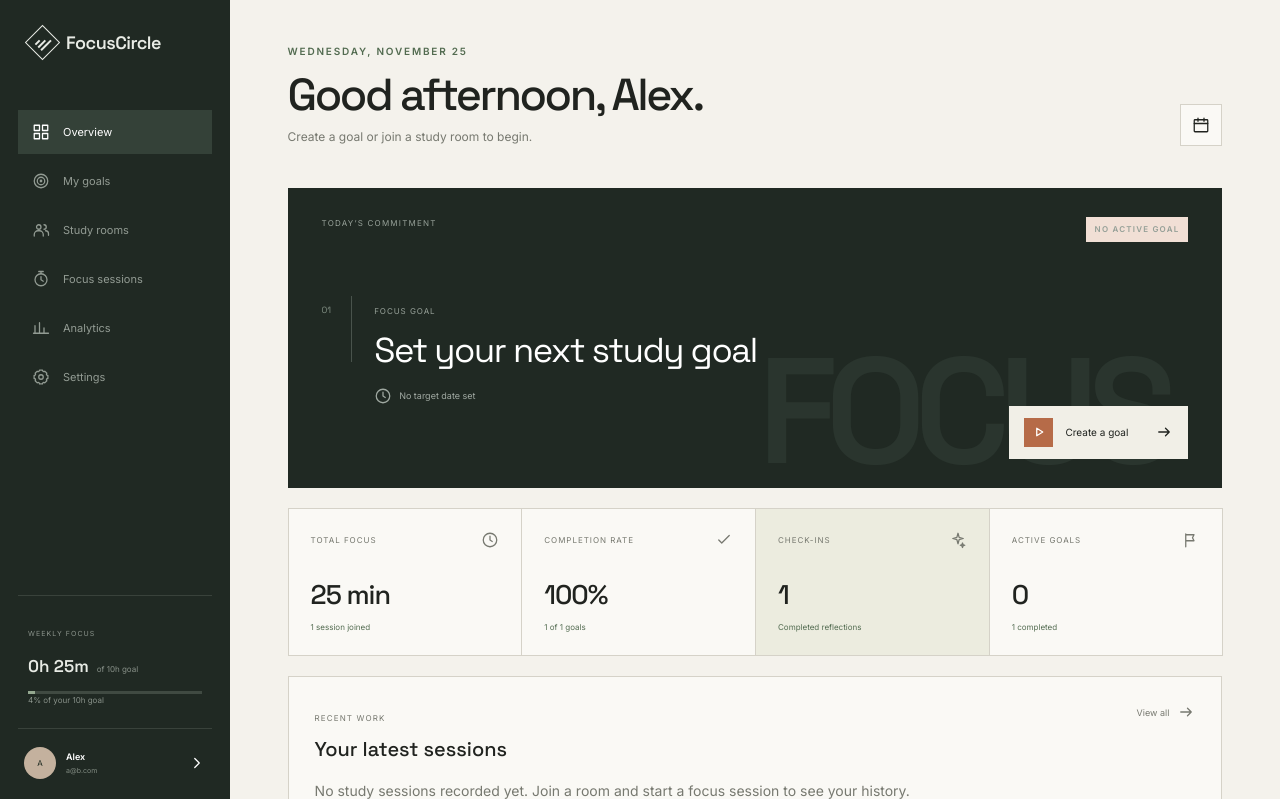
Test: FocusCircle Frontend › runs study room -> focus timer -> check-in -> analytics flow
The image size is (1280, 799).
Expected: the heading "Good afternoon, Alex." is shown, [288,73,703,118]
Click the button "Study rooms" at (115, 230), box [18,208,212,252]
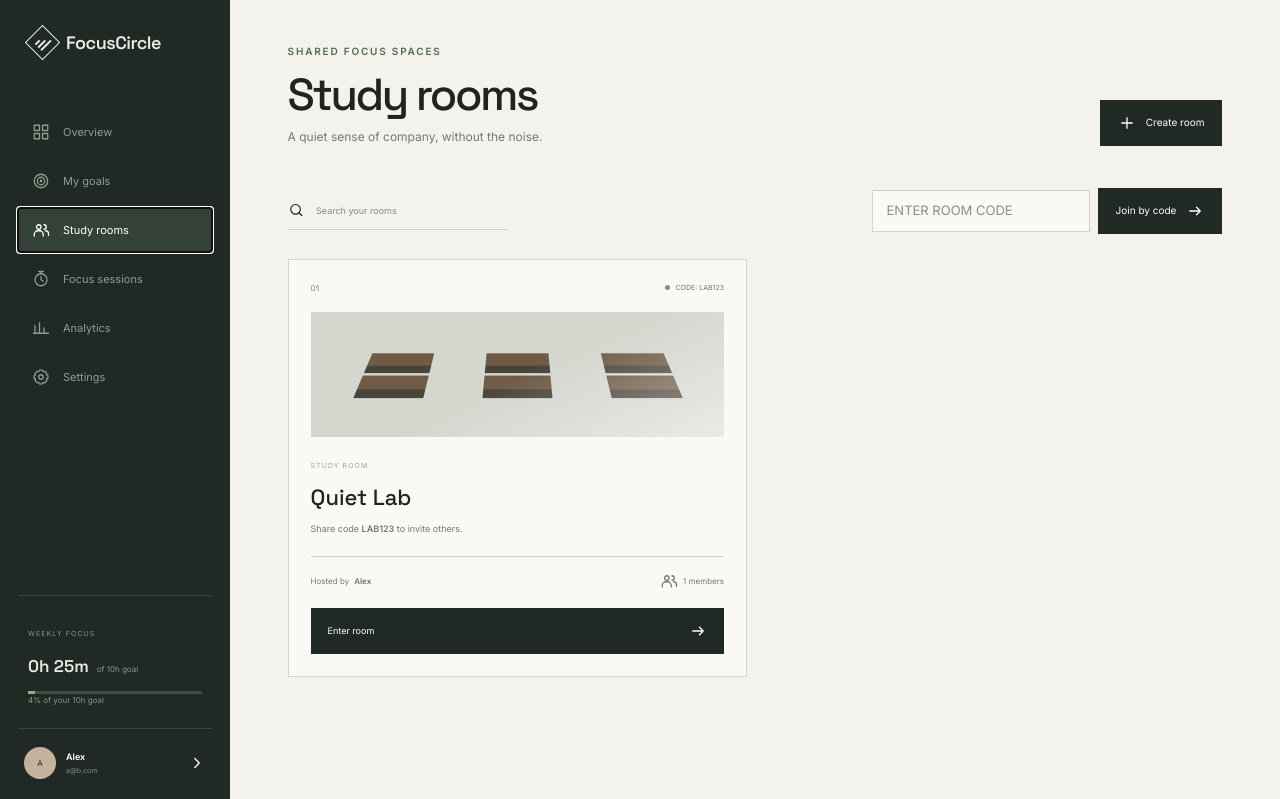
Result: the heading "Quiet Lab" is shown at [311,483,412,511]
Click the button "Enter room" at (351, 631), box [311,608,724,654]
(page scrolled)
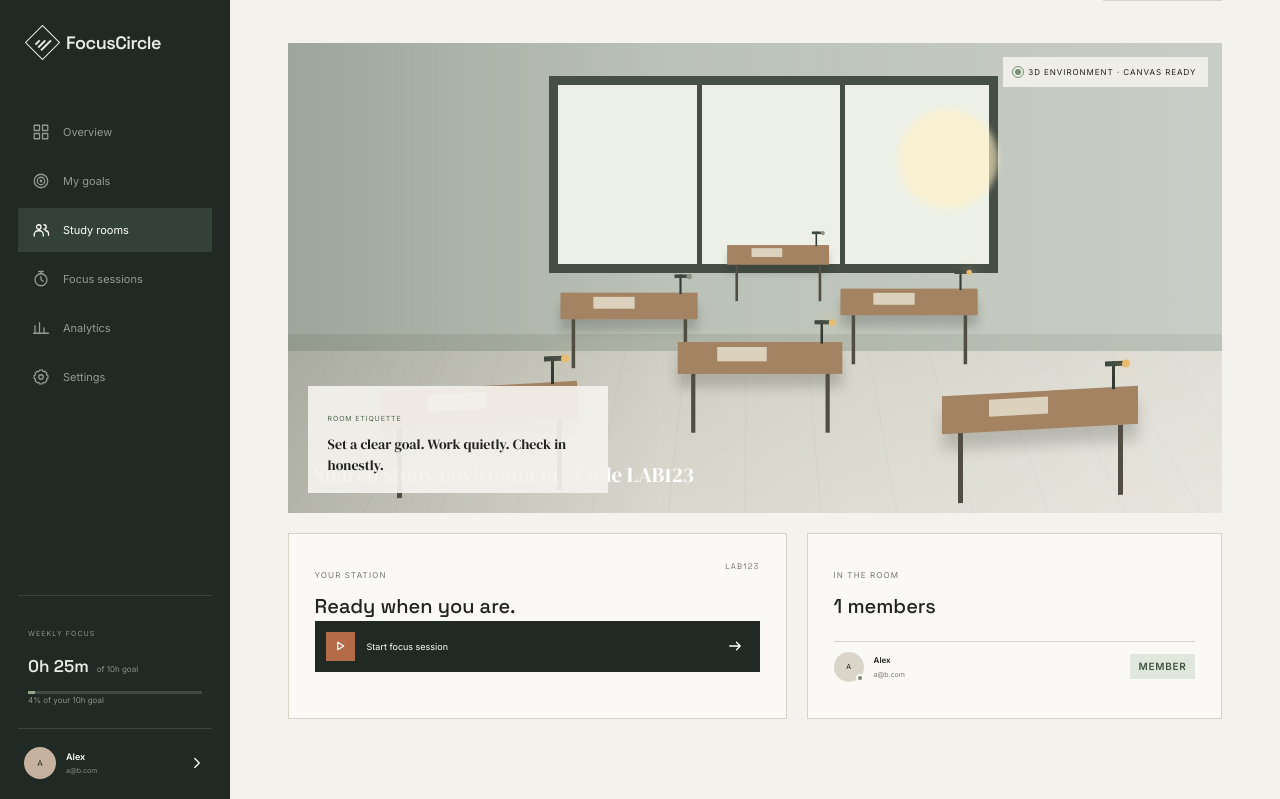
Result: the button "Start focus session" is shown
Click the button "Start focus session" at (407, 646), box [315,621,760,672]
(page scrolled)
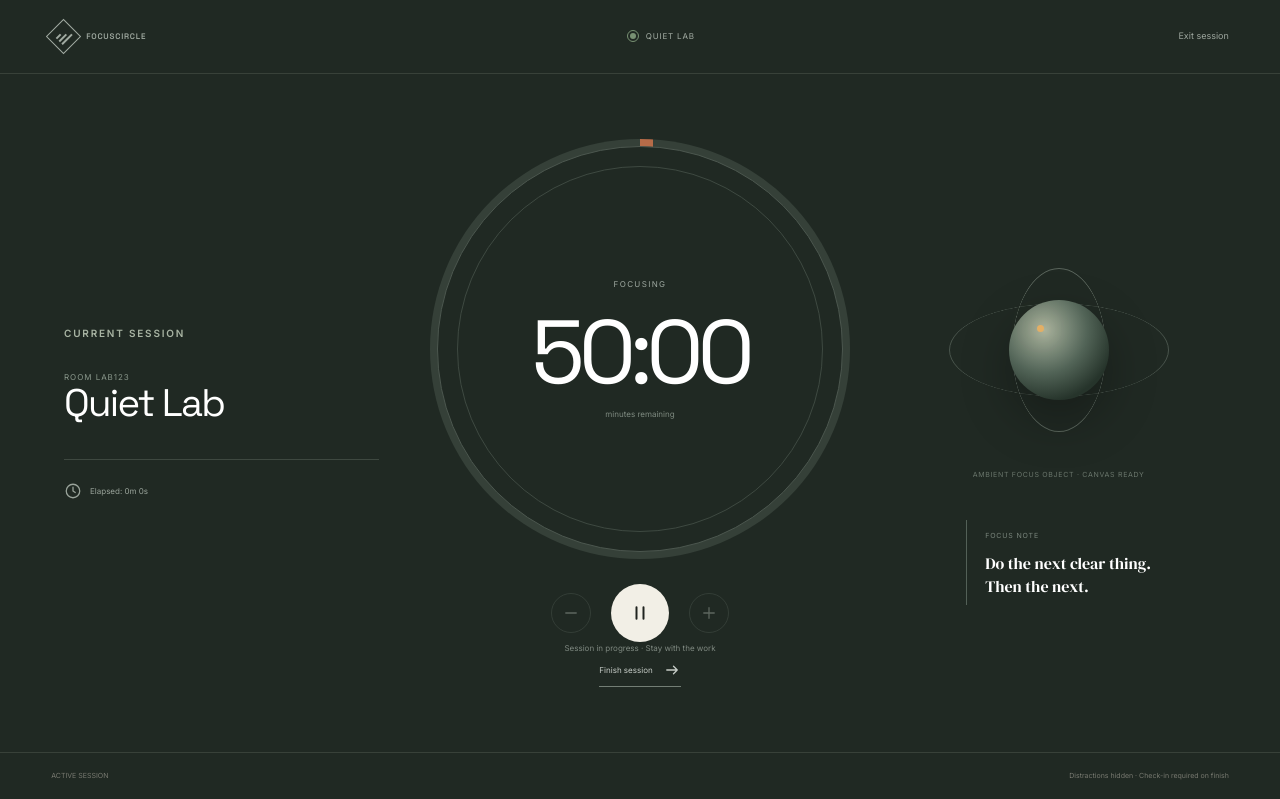
Result: the text "Session in progress · Stay with the work" is shown at [564,642,716,654]
Click the button "Finish session" at (640, 670), box [599,654,681,687]
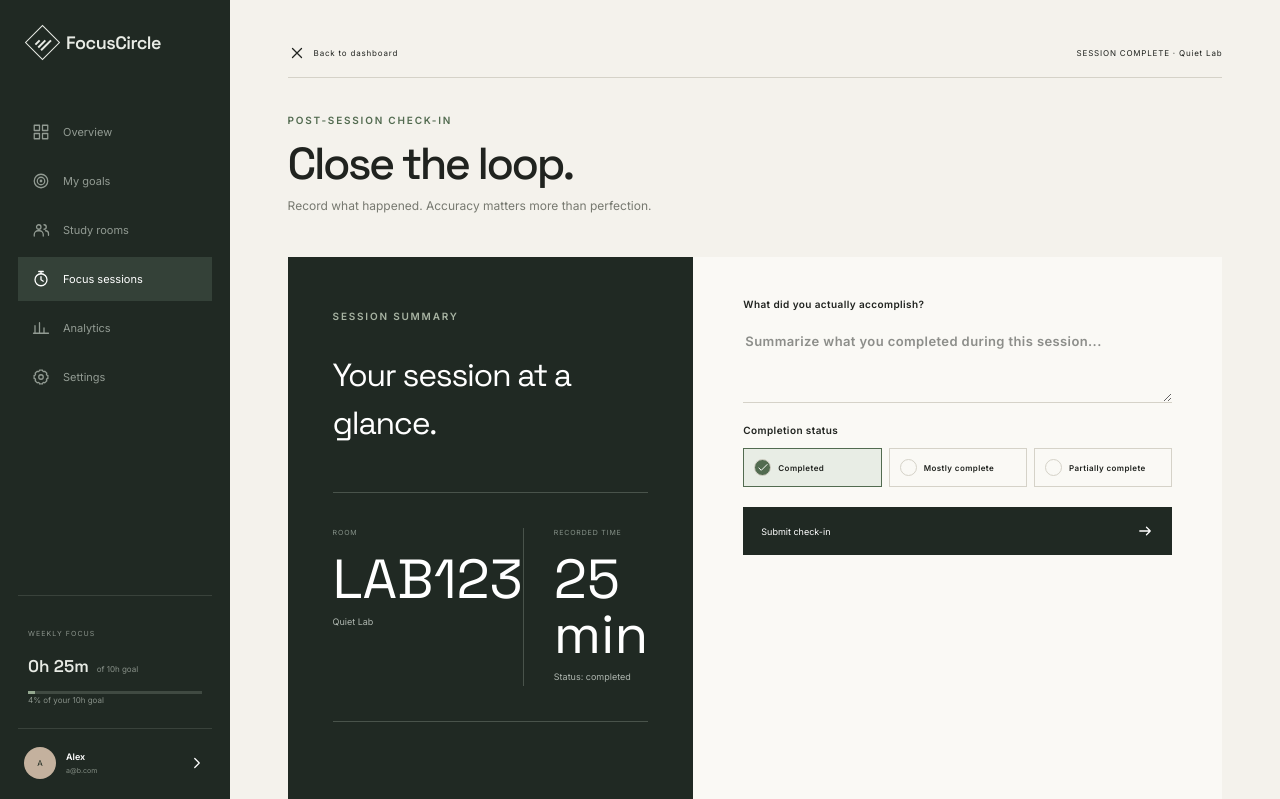
Result: the heading "Close the loop." is shown at [288,135,573,192]
Type "Finished 3 chapters" into the text box with placeholder "Summarize what you completed during this session..." at (958, 362), box [743,320,1172,403]
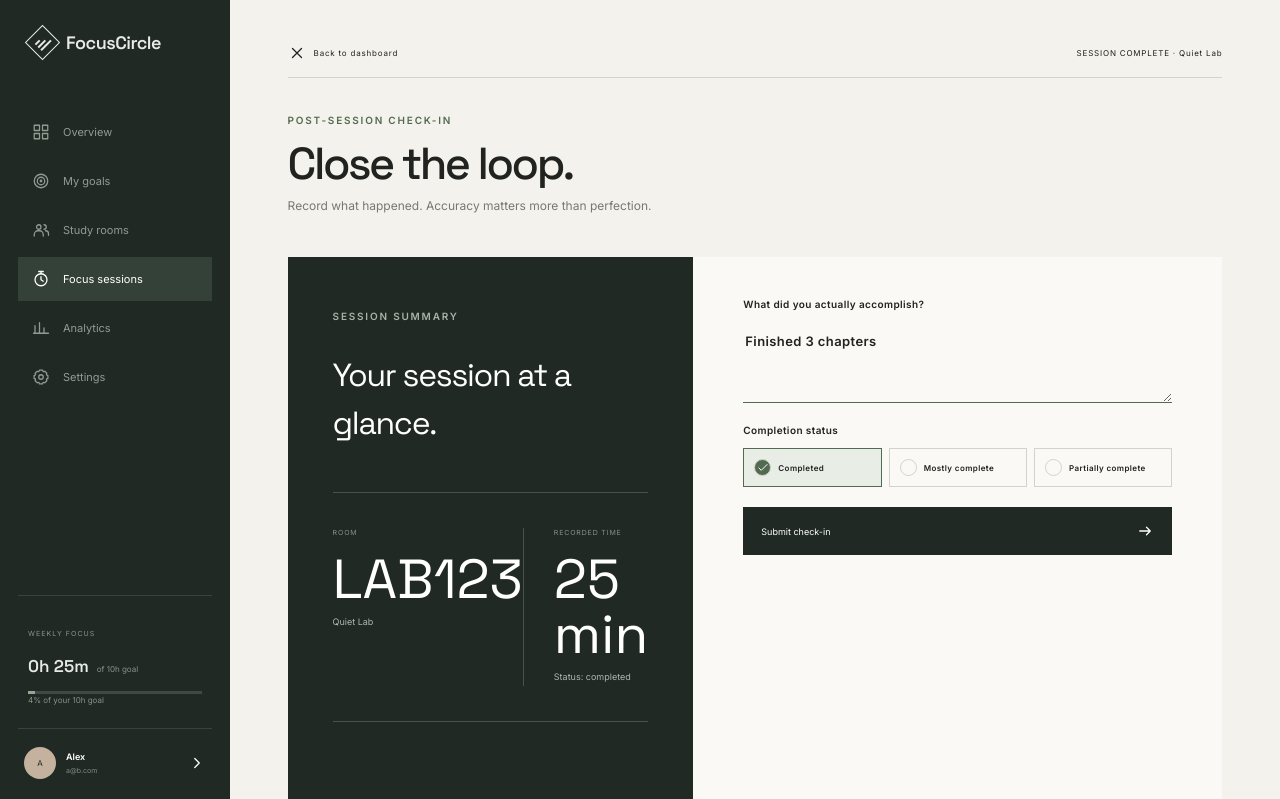
Click the button "Submit check-in" at (796, 531), box [743,507,1172,555]
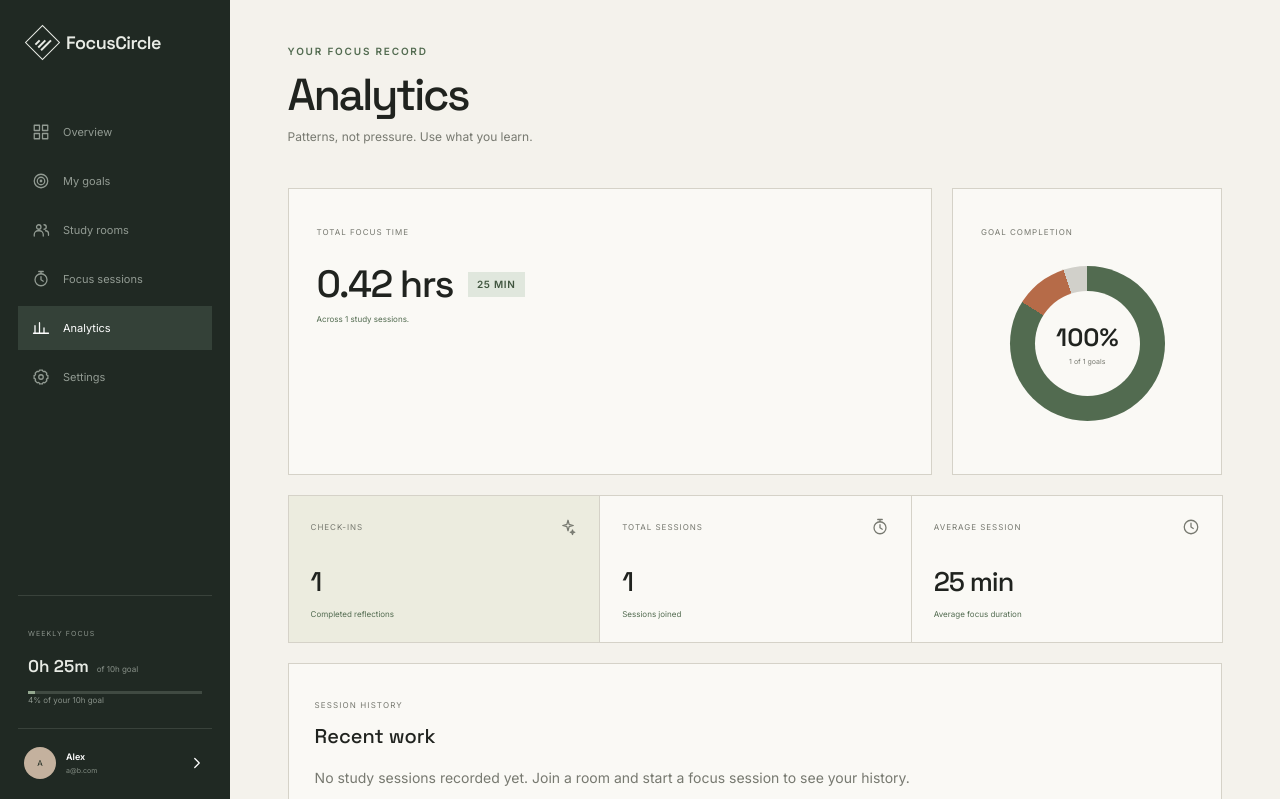
Result: the text "TOTAL FOCUS TIME" is shown at [317,227,409,237]
